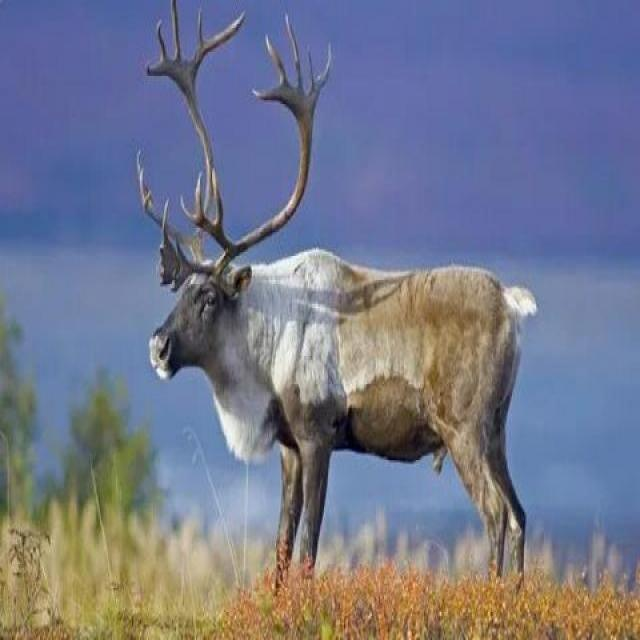deer: (98, 0, 561, 588)
